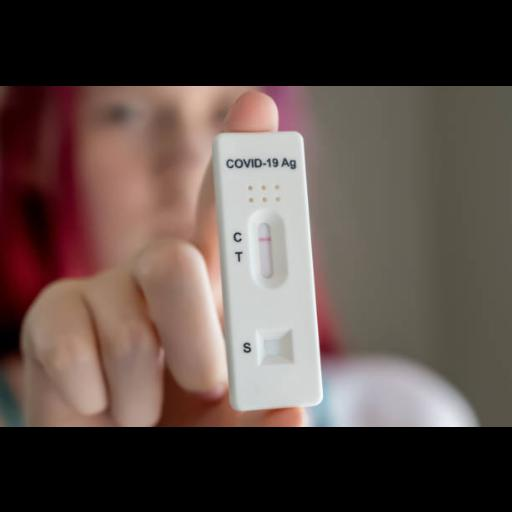Neg: (216, 130, 325, 408)
